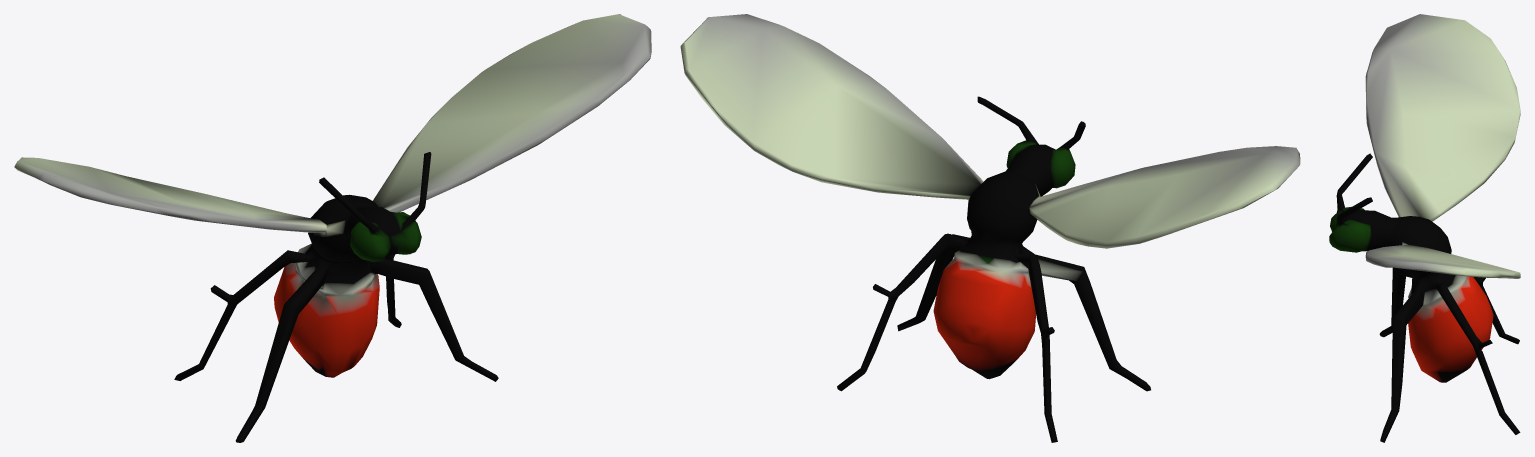
File: gen3d-firefly-lod1.glb
3 renders of one model, left to right at view 1: azimuth 30°, elevation 25°; view 2: azimuth 150°, elevation 25°; view 3: azimuth 270°, elevation 25°, orthographic. The views are drawn at different scales.
Parts seen in each view (by area): view 1: part_0; view 2: part_0; view 3: part_0.
Part boxes in pixels (x1,y1,x2,y2): part_0: (14,14,651,442); part_0: (680,14,1300,442); part_0: (1329,14,1520,442).
Bounding box in the file's own units: 2.15 × 0.9993 × 0.6893.
